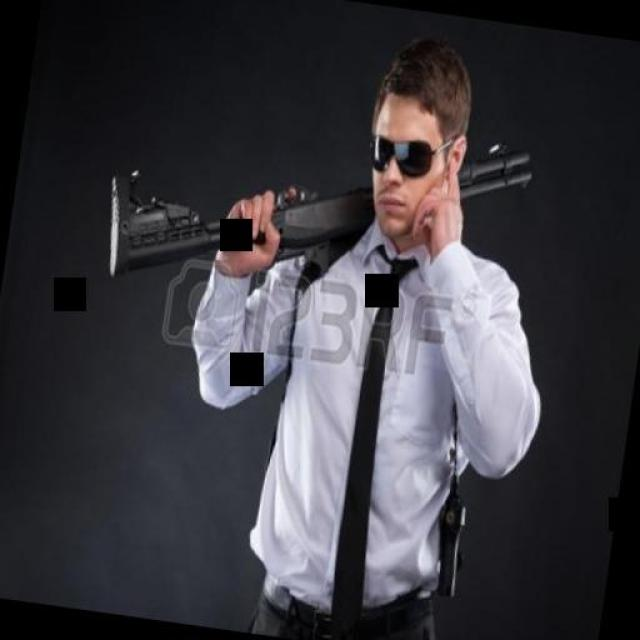gun: (414, 468, 486, 608)
